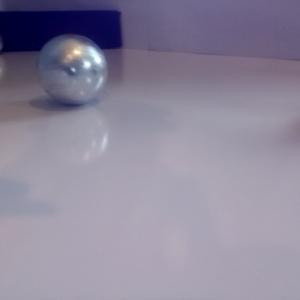zone: (1, 11, 122, 54)
